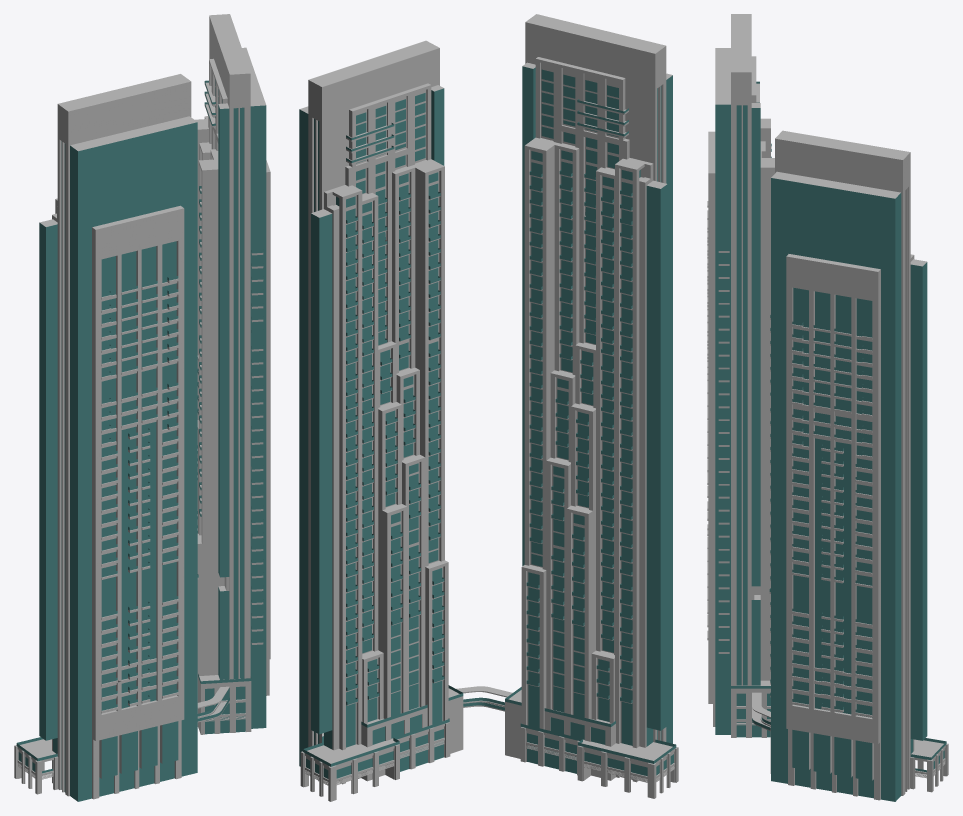
Rendered from ACT1_ACT2.fbx.
3 views of the same model, side by side, from view 1: azimuth 30°, elevation 25°; view 2: azimuth 150°, elevation 25°; view 3: azimuth 270°, elevation 25° (orthographic). The views are drawn at different scales.
Parts seen in each view (by area): view 1: group1, Line003; view 2: group1, Line003; view 3: group1, Line003.
Part boxes in pixels (box(x1,y1,x2,y2)): group1: box(14, 14, 270, 801); Line003: box(197, 686, 229, 722); group1: box(299, 14, 678, 801); Line003: box(456, 686, 512, 711); group1: box(707, 14, 948, 801); Line003: box(752, 692, 770, 731).
Size of the model in its own units: 10447 by 7900 by 23998.
